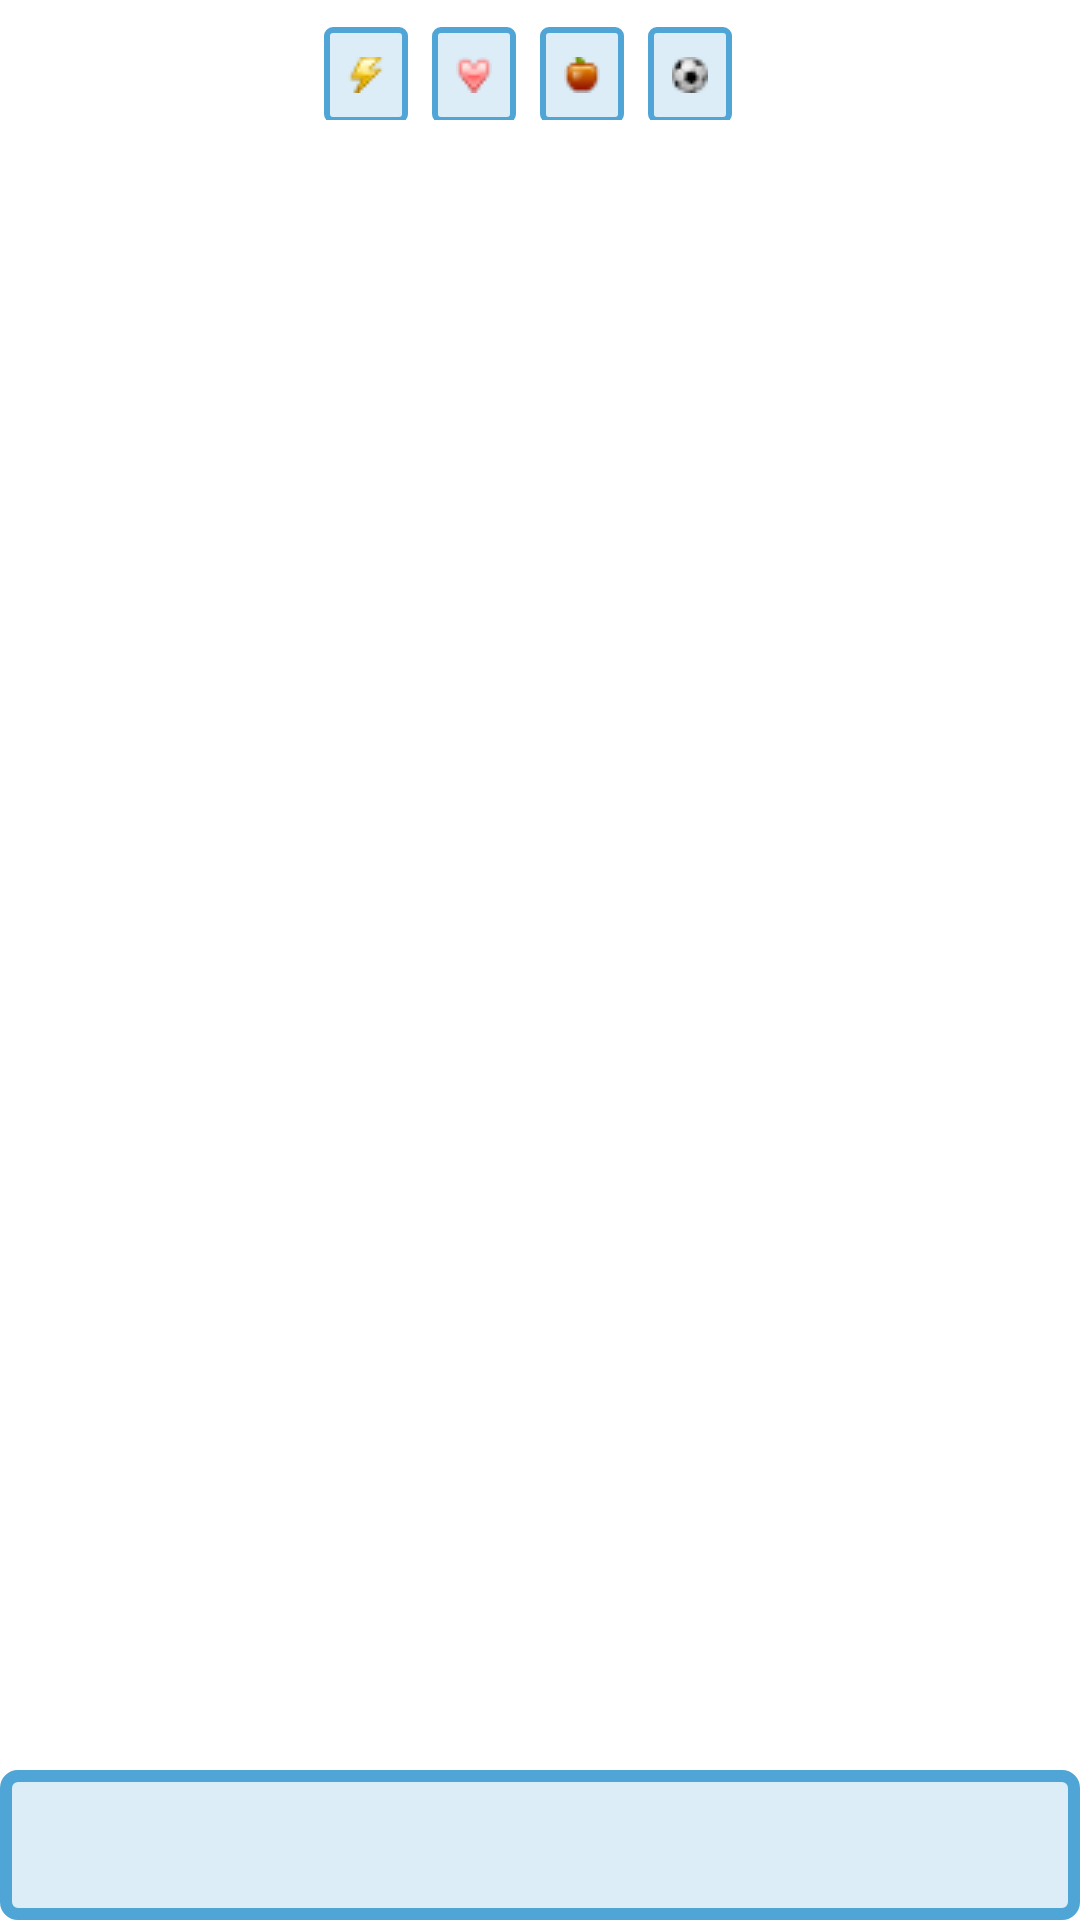

Named icons in this screenshot (1080×1920) and their bounding boxes, box=[x1, y1, x2, y2]:
energy: box=[324, 27, 408, 120]
food: box=[540, 27, 624, 120]
fun: box=[648, 27, 732, 120]
health: box=[432, 27, 516, 120]
